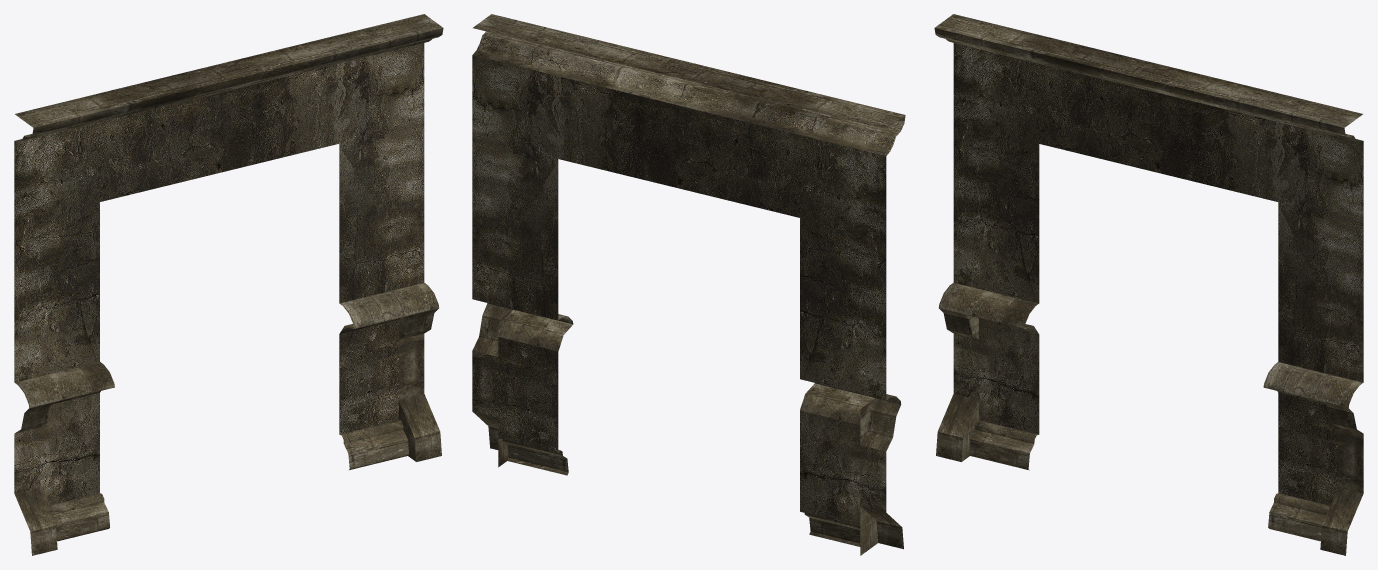
Rendered from door_way_worn.dae.
The picture shows the model from 3 angles, left to right: view 1: azimuth 30°, elevation 25°; view 2: azimuth 150°, elevation 25°; view 3: azimuth 330°, elevation 25°; orthographic projection.
Visible parts, largest first — view 1: castlebase_doorway_worn; view 2: castlebase_doorway_worn; view 3: castlebase_doorway_worn.
Boxes of the visible parts, <box> form: castlebase_doorway_worn: <box>14,14,443,555</box>; castlebase_doorway_worn: <box>472,14,905,555</box>; castlebase_doorway_worn: <box>934,14,1363,555</box>.
Size of the model in its own units: 4 by 4 by 0.3219.
